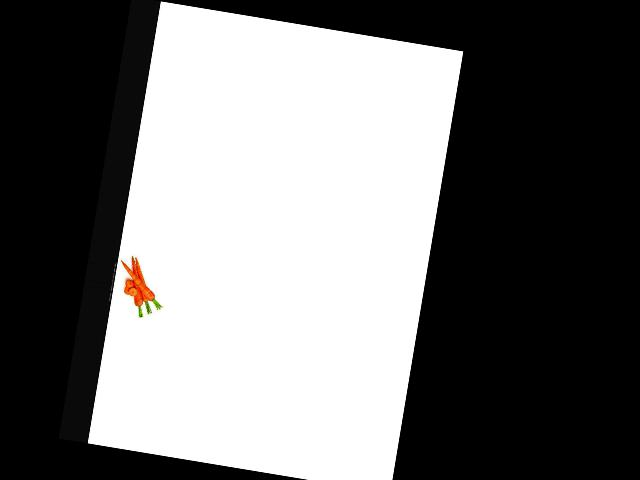carrot: (125, 254, 156, 312)
